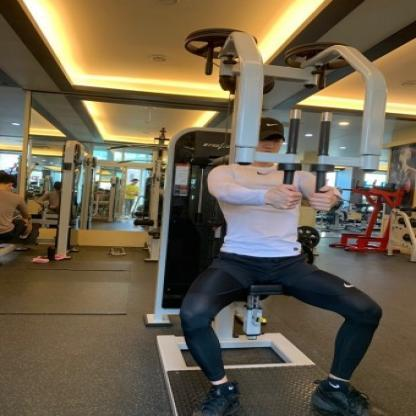chest fly machine: (107, 14, 416, 416)
